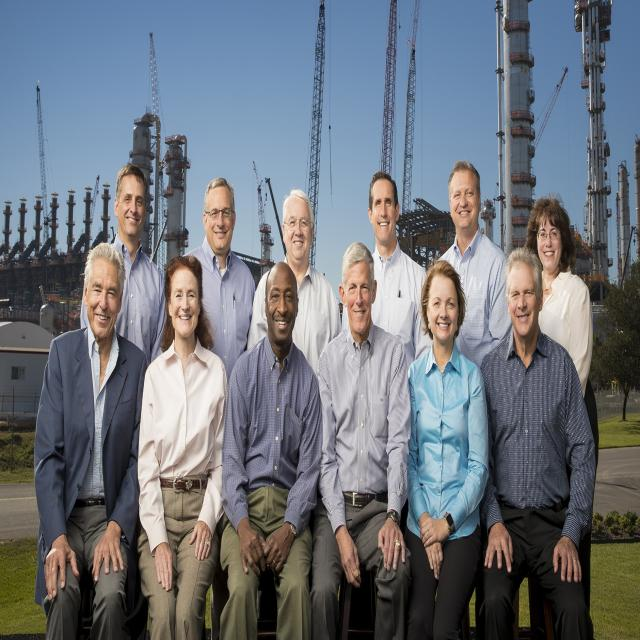body: (476, 245, 598, 640), (34, 242, 147, 640), (311, 241, 411, 640), (220, 258, 324, 639), (136, 252, 228, 640), (399, 258, 492, 639), (181, 176, 255, 640), (525, 196, 600, 614), (245, 188, 342, 380), (79, 162, 168, 367), (341, 168, 430, 370), (434, 160, 510, 370)
